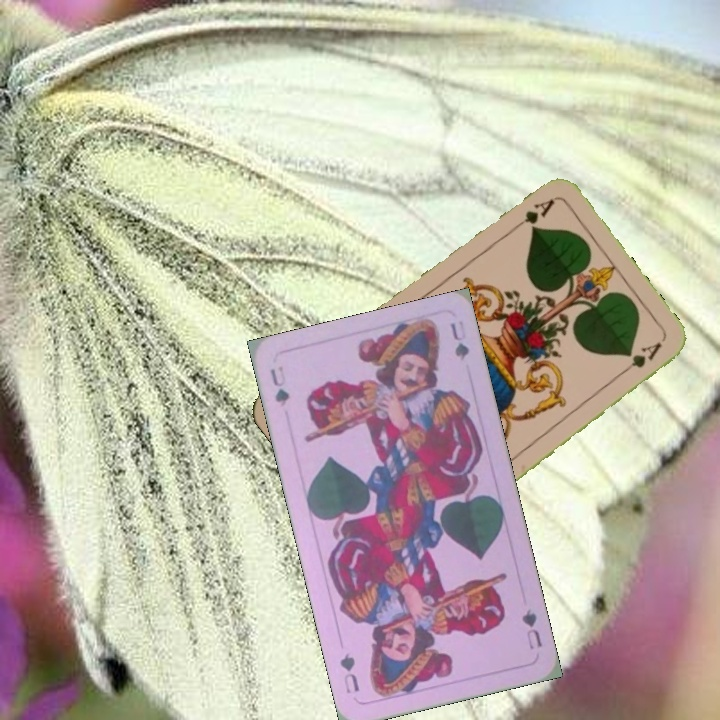GA: (506, 195, 557, 236)
GU: (517, 605, 545, 652), (266, 361, 292, 409)
